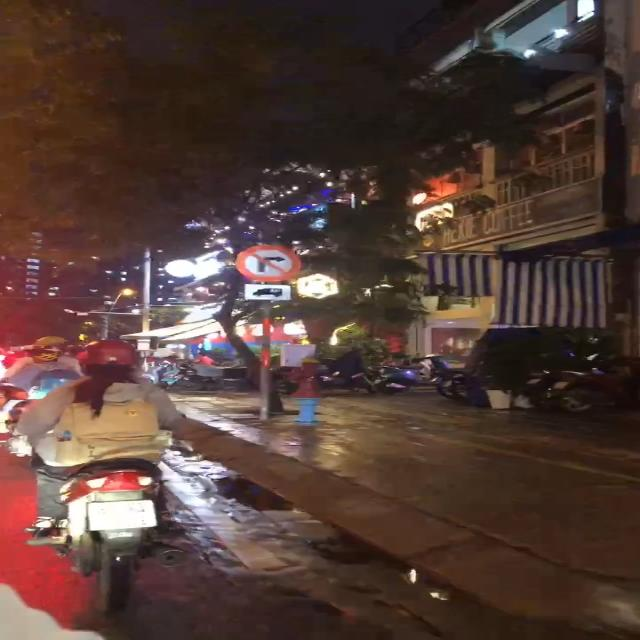Bien bao cam re phai: (235, 242, 302, 281)
